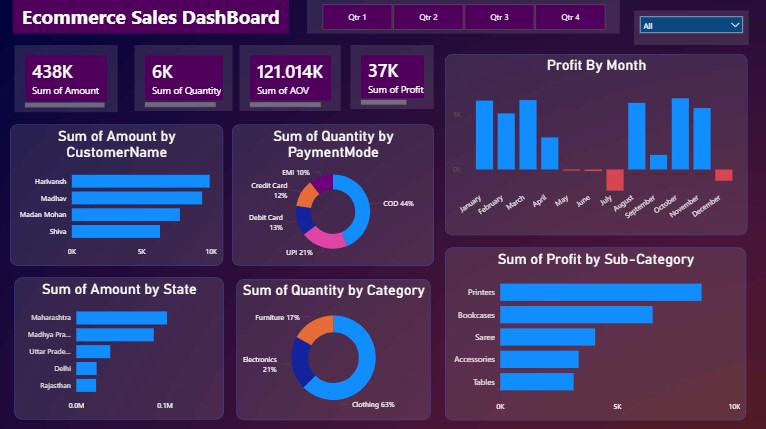

The page's visual inventory and layout, read from the dashboard file:
{"tool":"powerbi","page":{"name":"Page 1","canvas":[1280,720],"ordinal":0},"visuals":[{"type":"textbox","box":[26,0,460,56],"z":0},{"type":"columnChart","title":"Profit By Month","fields":{"Y":["Sum(Details.Profit)"],"Category":["Orders.Order Date.Variation.Date Hierarchy.Month"]},"box":[746,90,504,302],"z":1000},{"type":"barChart","fields":{"Category":["Details.Sub-Category"],"Y":["Sum(Details.Profit)"]},"box":[744,412,502,288],"z":2000},{"type":"donutChart","fields":{"Category":["Details.Category"],"Y":["Sum(Details.Quantity)"]},"box":[396.7,465,323.3,235],"z":3000},{"type":"donutChart","fields":{"Category":["Details.PaymentMode"],"Y":["Sum(Details.Quantity)"]},"box":[390,206.7,336.7,235.6],"z":4000},{"type":"cardVisual","fields":{"Data":["Sum(Details.Amount)"]},"box":[26.7,75,171.7,111.7],"z":5000},{"type":"cardVisual","fields":{"Data":["Sum(Details.Quantity)"]},"box":[226.7,75,163.3,110],"z":6000},{"type":"cardVisual","fields":{"Data":["Sum(Details.Profit)"]},"box":[588.3,75,138.3,106.7],"z":7000},{"type":"cardVisual","fields":{"Data":["Sum(Details.AOV)"]},"box":[403.3,75,168.3,110],"z":8000},{"type":"barChart","fields":{"Category":["Orders.State"],"Y":["Sum(Details.Amount)"]},"box":[26.7,463.3,348.3,236.7],"z":9000},{"type":"barChart","fields":{"Y":["Sum(Details.Amount)"],"Category":["Orders.CustomerName"]},"box":[20,206.7,355,235],"z":10000},{"type":"slicer","fields":{"Values":["Orders.Order Date.Variation.Date Hierarchy.Quarter"]},"box":[513.8,0,521.2,56.2],"z":11000},{"type":"slicer","fields":{"Values":["Orders.State"]},"box":[1058.8,17.5,191.2,57.5],"z":12000}]}

Visuals, with their boxes in screenshot pixels (x1, y1, x2, y2), scaled from the page's 1280x720 canvas onto the 766x429 screenshot:
textbox: x1=16 y1=0 x2=291 y2=33
"Profit By Month" columnChart: x1=446 y1=54 x2=748 y2=234
barChart - Details.Sub-Category x Sum(Details.Profit): x1=445 y1=245 x2=746 y2=417
donutChart - Details.Category x Sum(Details.Quantity): x1=237 y1=277 x2=431 y2=417
donutChart - Details.PaymentMode x Sum(Details.Quantity): x1=233 y1=123 x2=435 y2=264
cardVisual - Sum(Details.Amount): x1=16 y1=45 x2=119 y2=111
cardVisual - Sum(Details.Quantity): x1=136 y1=45 x2=233 y2=110
cardVisual - Sum(Details.Profit): x1=352 y1=45 x2=435 y2=108
cardVisual - Sum(Details.AOV): x1=241 y1=45 x2=342 y2=110
barChart - Orders.State x Sum(Details.Amount): x1=16 y1=276 x2=224 y2=417
barChart - Sum(Details.Amount) x Orders.CustomerName: x1=12 y1=123 x2=224 y2=263
slicer - Orders.Order Date.Variation.Date Hierarchy.Quarter: x1=307 y1=0 x2=619 y2=33
slicer - Orders.State: x1=634 y1=10 x2=748 y2=45
